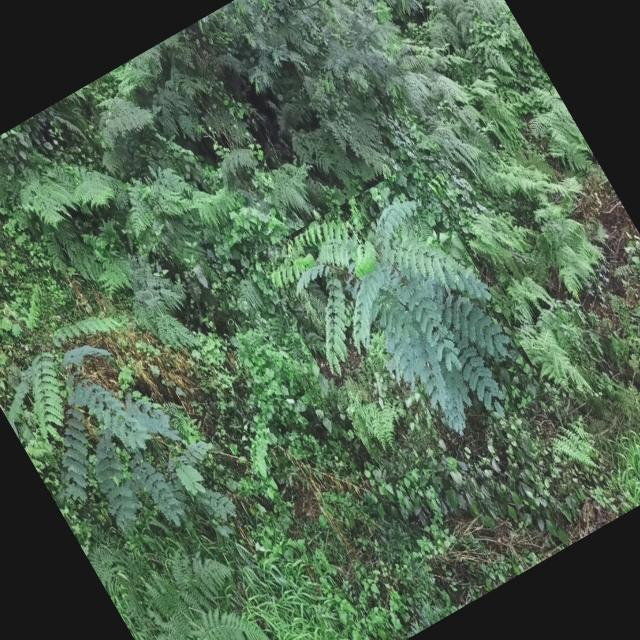Mysore-Thorn-Weed: (255, 162, 548, 484), (0, 216, 225, 571)
